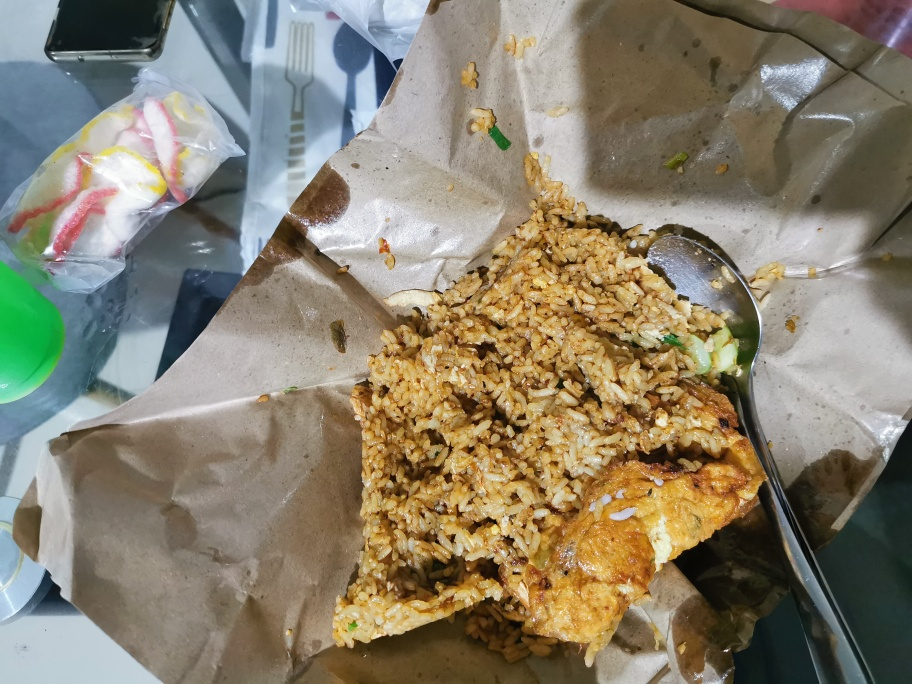nasi goreng: (351, 144, 764, 657)
